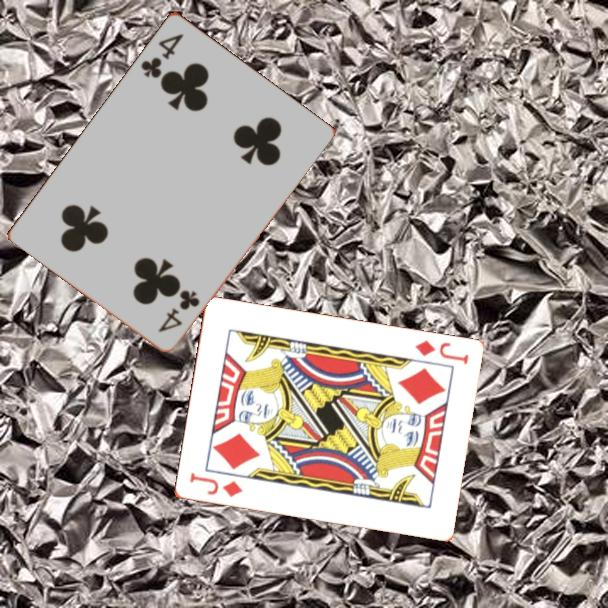c04: (137, 30, 186, 81), (154, 286, 203, 335)
d11: (411, 337, 471, 368), (186, 469, 245, 500)
